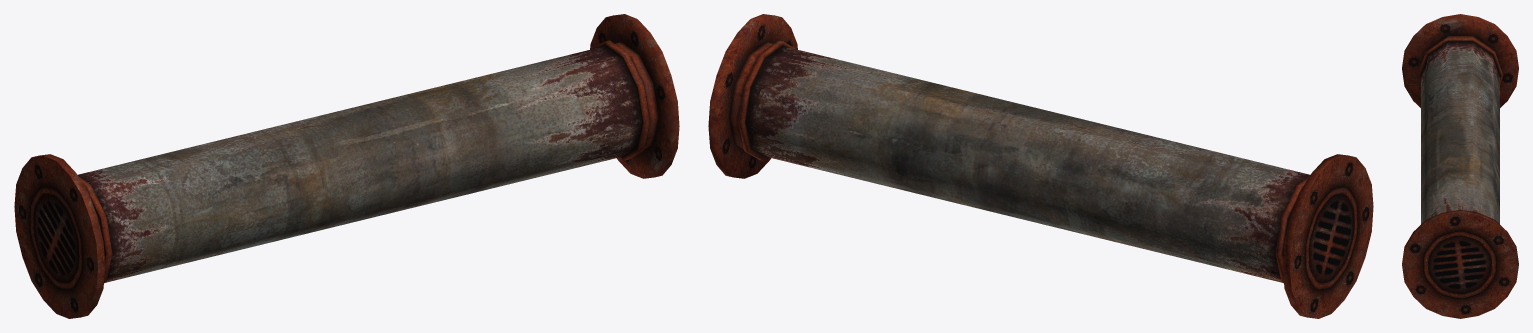
The model's file is long.dae.
3 renders of one model, left to right at view 1: azimuth 30°, elevation 25°; view 2: azimuth 150°, elevation 25°; view 3: azimuth 270°, elevation 25°, orthographic. The views are drawn at different scales.
Parts seen in each view (by area): view 1: pCylinder13; view 2: pCylinder13; view 3: pCylinder13.
Boxes of the visible parts, box(x1,y1,x2,y2) form: pCylinder13: box(14, 14, 679, 318); pCylinder13: box(708, 14, 1373, 318); pCylinder13: box(1402, 14, 1518, 318).
Size of the model in its own units: 2 by 0.5027 by 0.4983.
